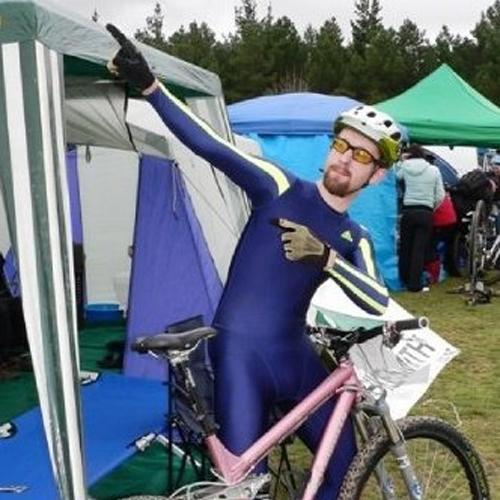non-vehicle: (121, 316, 488, 499), (444, 195, 498, 307)
